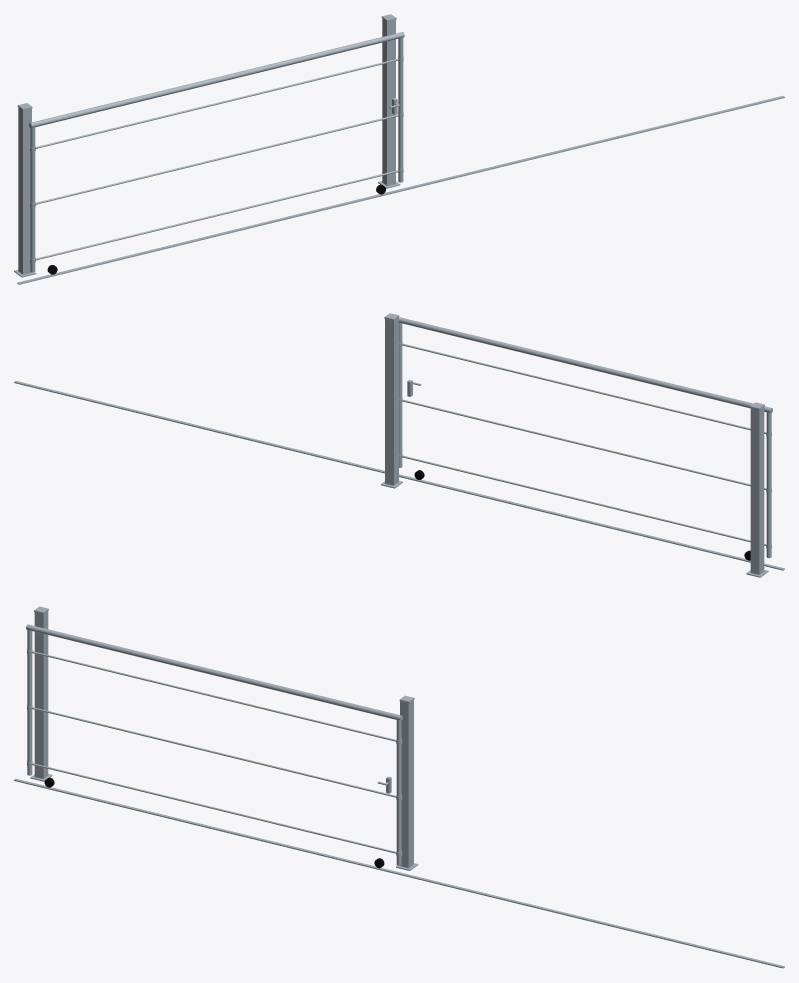
The model's file is 06-klizna.glb.
3 renders of one model, top to bottom at view 1: azimuth 30°, elevation 25°; view 2: azimuth 150°, elevation 25°; view 3: azimuth 330°, elevation 25°, orthographic.
Visible parts, largest first — view 1: Okov_vodilica_demo.005, Ram_rukohvat.009, Stub_levi.023, Stub_desni.023, Ispuna_okrugla_precka.033, Ispuna_okrugla_precka.032, Ispuna_okrugla_precka.034, Ram_inox_uspravni.018, Ram_inox_uspravni.019; view 2: Okov_vodilica_demo.005, Stub_levi.023, Stub_desni.023, Ram_rukohvat.009, Ispuna_okrugla_precka.032, Ispuna_okrugla_precka.033, Ispuna_okrugla_precka.034, Ram_inox_uspravni.018, Ram_inox_uspravni.019; view 3: Okov_vodilica_demo.005, Ram_rukohvat.009, Stub_levi.023, Stub_desni.023, Ispuna_okrugla_precka.033, Ispuna_okrugla_precka.034, Ispuna_okrugla_precka.032, Ram_inox_uspravni.019, Ram_inox_uspravni.018.
Boxes of the visible parts, bbox=[...] form: Okov_vodilica_demo.005: bbox=[17, 96, 784, 284]; Ram_rukohvat.009: bbox=[29, 32, 404, 128]; Stub_levi.023: bbox=[18, 107, 31, 274]; Stub_desni.023: bbox=[382, 18, 395, 185]; Ispuna_okrugla_precka.033: bbox=[36, 114, 398, 204]; Ispuna_okrugla_precka.032: bbox=[36, 170, 398, 260]; Ispuna_okrugla_precka.034: bbox=[36, 58, 398, 148]; Ram_inox_uspravni.018: bbox=[30, 127, 35, 272]; Ram_inox_uspravni.019: bbox=[398, 37, 403, 182]; Okov_vodilica_demo.005: bbox=[14, 381, 784, 570]; Stub_levi.023: bbox=[750, 407, 764, 574]; Stub_desni.023: bbox=[385, 317, 398, 485]; Ram_rukohvat.009: bbox=[399, 317, 772, 413]; Ispuna_okrugla_precka.032: bbox=[401, 455, 766, 545]; Ispuna_okrugla_precka.033: bbox=[401, 399, 766, 489]; Ispuna_okrugla_precka.034: bbox=[401, 343, 766, 433]; Ram_inox_uspravni.018: bbox=[766, 412, 771, 558]; Ram_inox_uspravni.019: bbox=[399, 322, 402, 467]; Okov_vodilica_demo.005: bbox=[14, 778, 784, 968]; Ram_rukohvat.009: bbox=[26, 624, 402, 720]; Stub_levi.023: bbox=[34, 611, 48, 778]; Stub_desni.023: bbox=[400, 700, 413, 868]; Ispuna_okrugla_precka.033: bbox=[31, 707, 396, 797]; Ispuna_okrugla_precka.034: bbox=[31, 651, 396, 741]; Ispuna_okrugla_precka.032: bbox=[31, 763, 396, 853]; Ram_inox_uspravni.019: bbox=[396, 720, 401, 865]; Ram_inox_uspravni.018: bbox=[27, 630, 32, 775].
Bounding box in the file's own units: 8.63 × 1.8 × 0.38.
